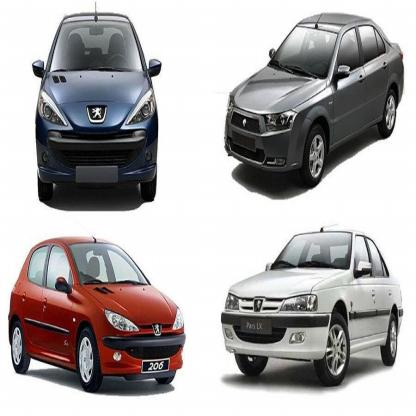Car: (226, 15, 406, 193), (217, 219, 396, 390), (9, 229, 188, 391), (31, 9, 165, 210)
